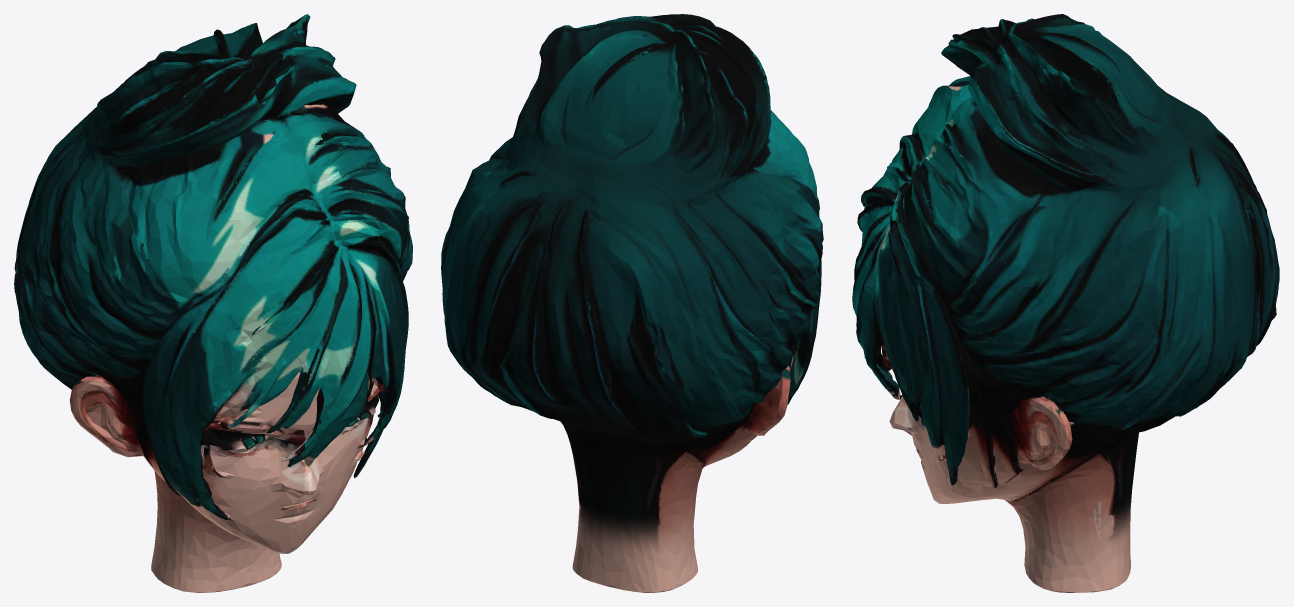
File: side_rui_repaired_atlas.glb
3 renders of one model, left to right at view 1: azimuth 30°, elevation 25°; view 2: azimuth 150°, elevation 25°; view 3: azimuth 270°, elevation 25°, orthographic. The views are drawn at different scales.
Parts seen in each view (by area): view 1: temp_mesh.ply; view 2: temp_mesh.ply; view 3: temp_mesh.ply.
Part boxes in pixels (bbox=[...]): temp_mesh.ply: bbox=[14, 14, 412, 592]; temp_mesh.ply: bbox=[441, 14, 823, 592]; temp_mesh.ply: bbox=[852, 14, 1279, 592].
Bounding box in the file's own units: 1.29 × 1.97 × 1.42.
1 material, 1 textured.
